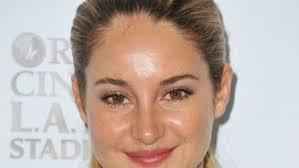Oily-Skin: (131, 59, 161, 80), (164, 114, 186, 130), (112, 121, 132, 138), (142, 126, 162, 140)
